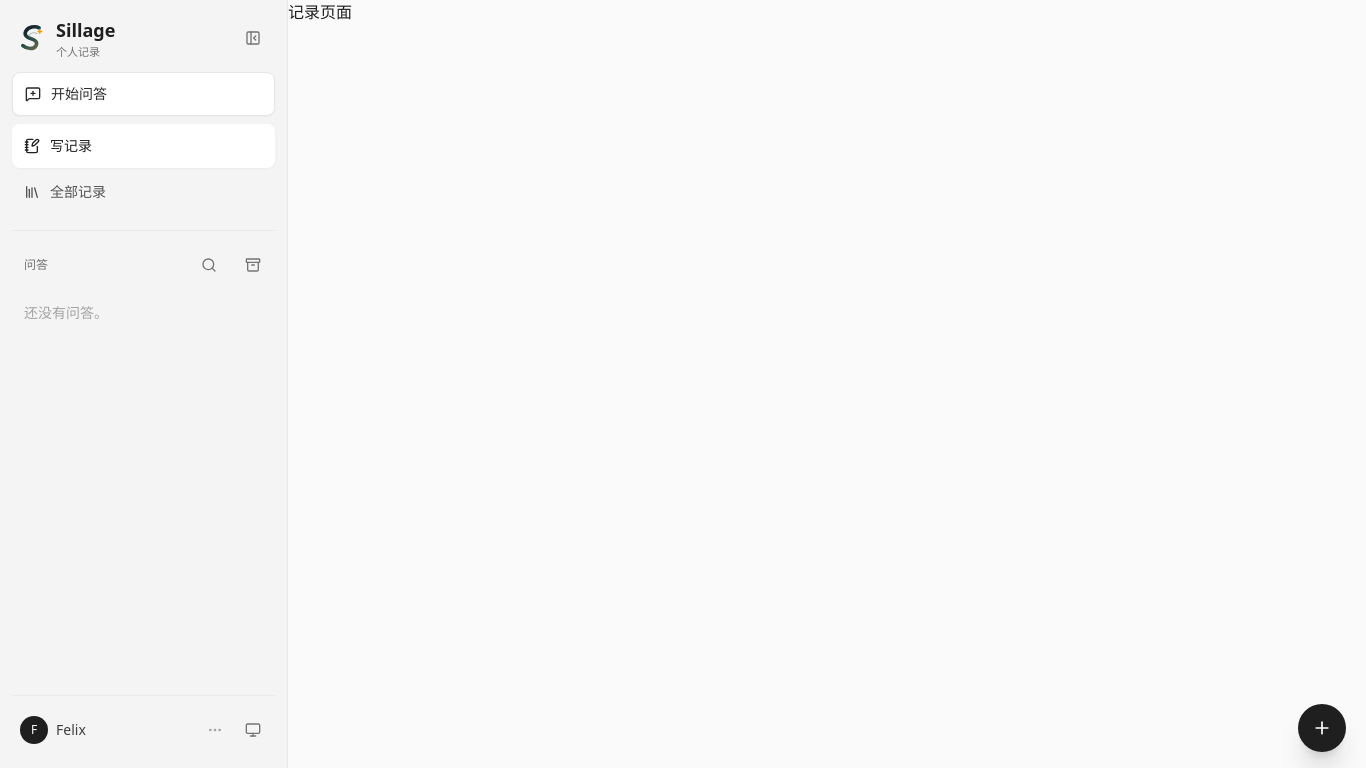
Test case: AppShell mobile navigation › keeps a quick-capture draft mounted across the Ask route
Click the button named "速记". click: (1322, 728)
box: [1298,704,1346,752]
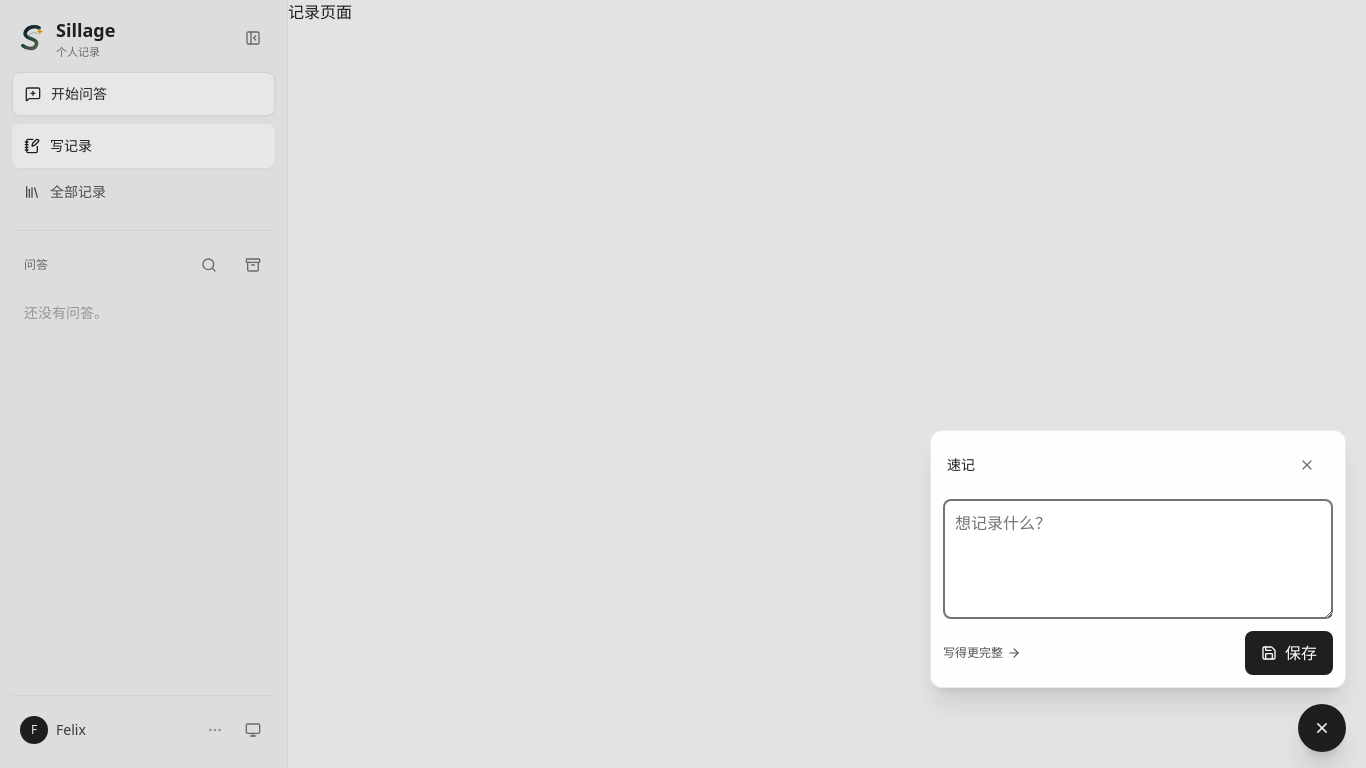
Type "跨页面速记" into the text box named "速记内容". click: (1138, 559)
box: [943,499,1333,619]
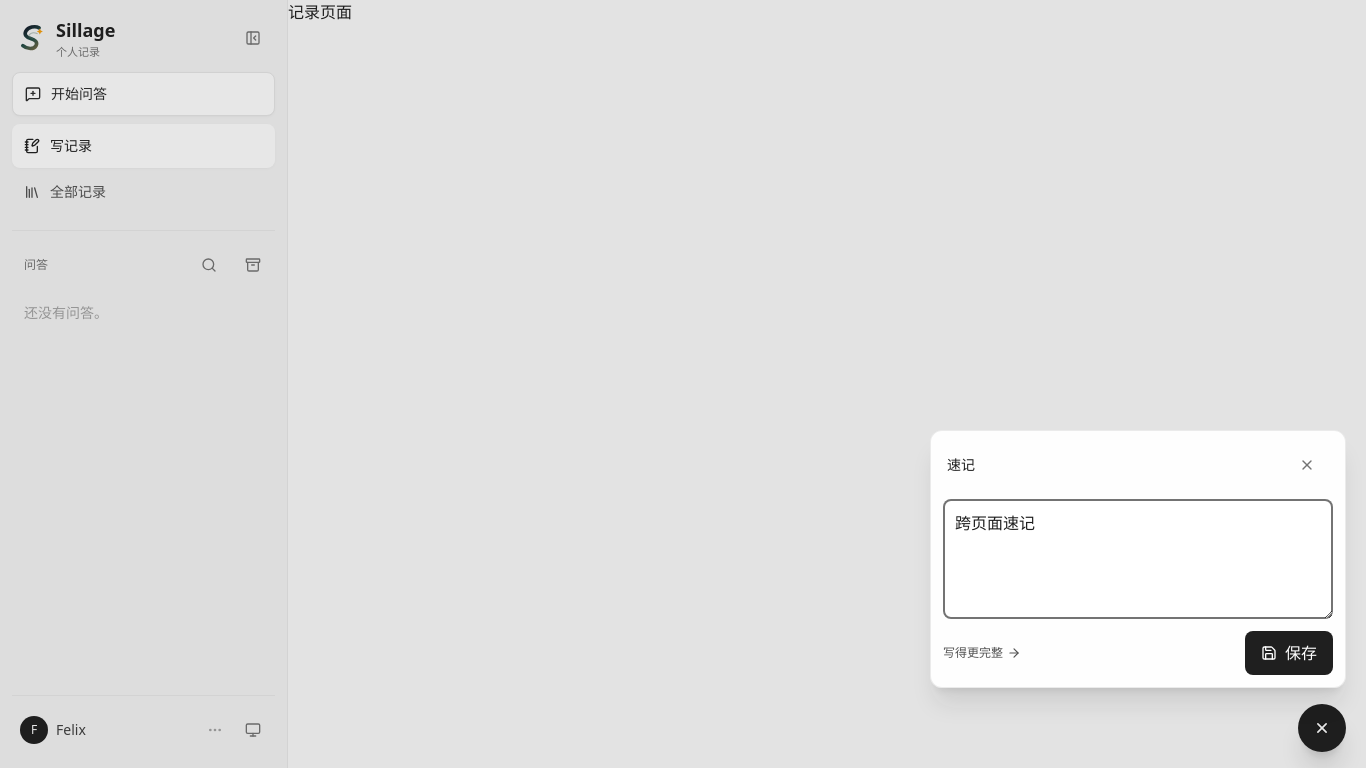
Click the button named "关闭速记" in the row of "速记". click: (1307, 465)
box: [1285,443,1329,487]
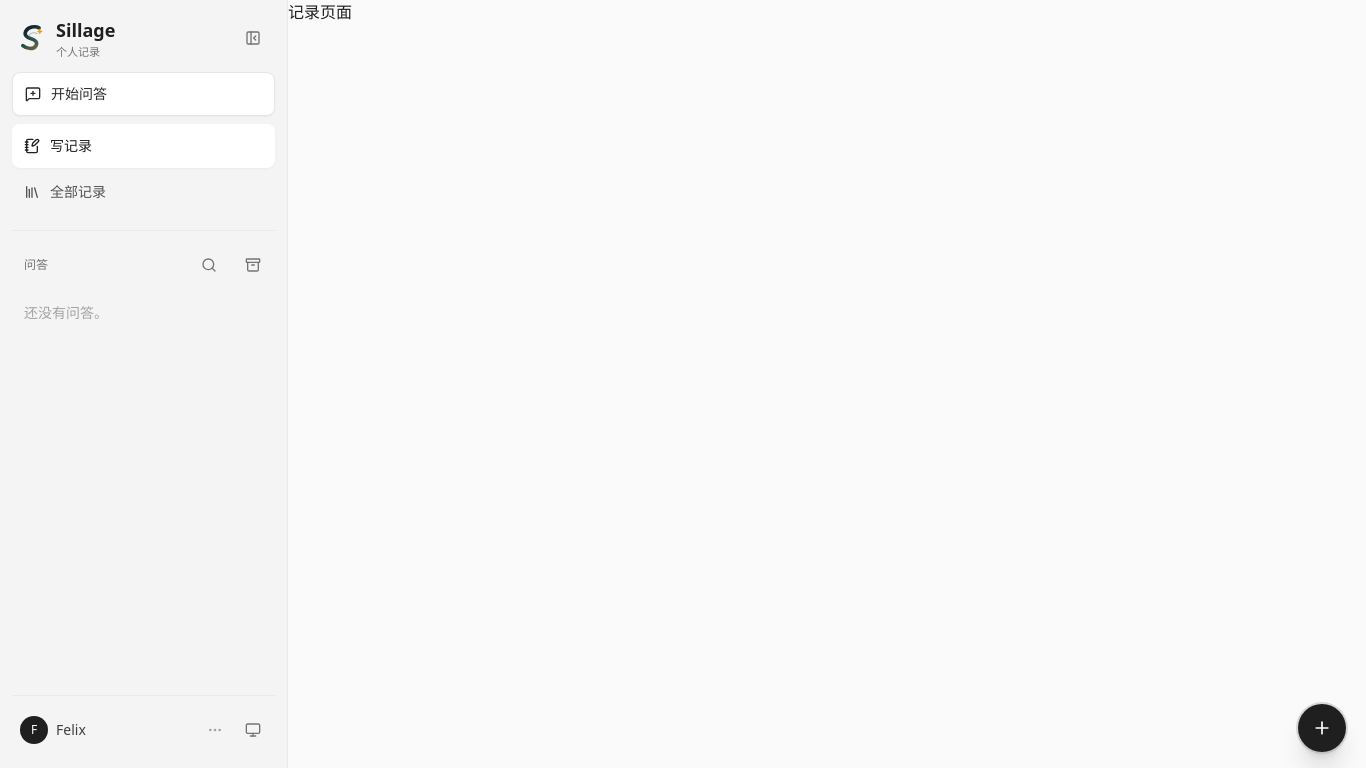
Click the link "开始问答". click: (79, 94)
box: [12,72,275,116]
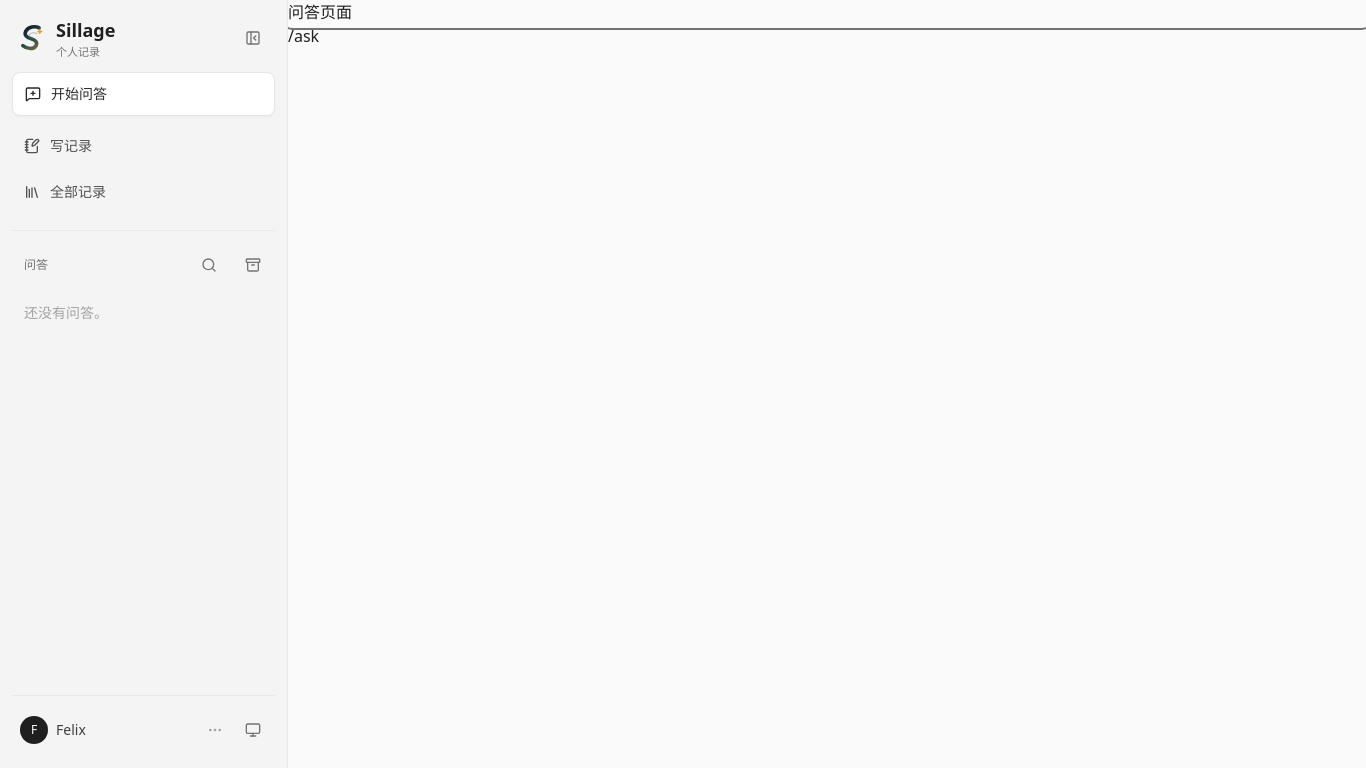
Result: the heading "问答页面" is shown at [288,1,352,23]
Result: the button "速记" is gone
Click the link "写记录". click: (58, 146)
box: [24,136,92,155]
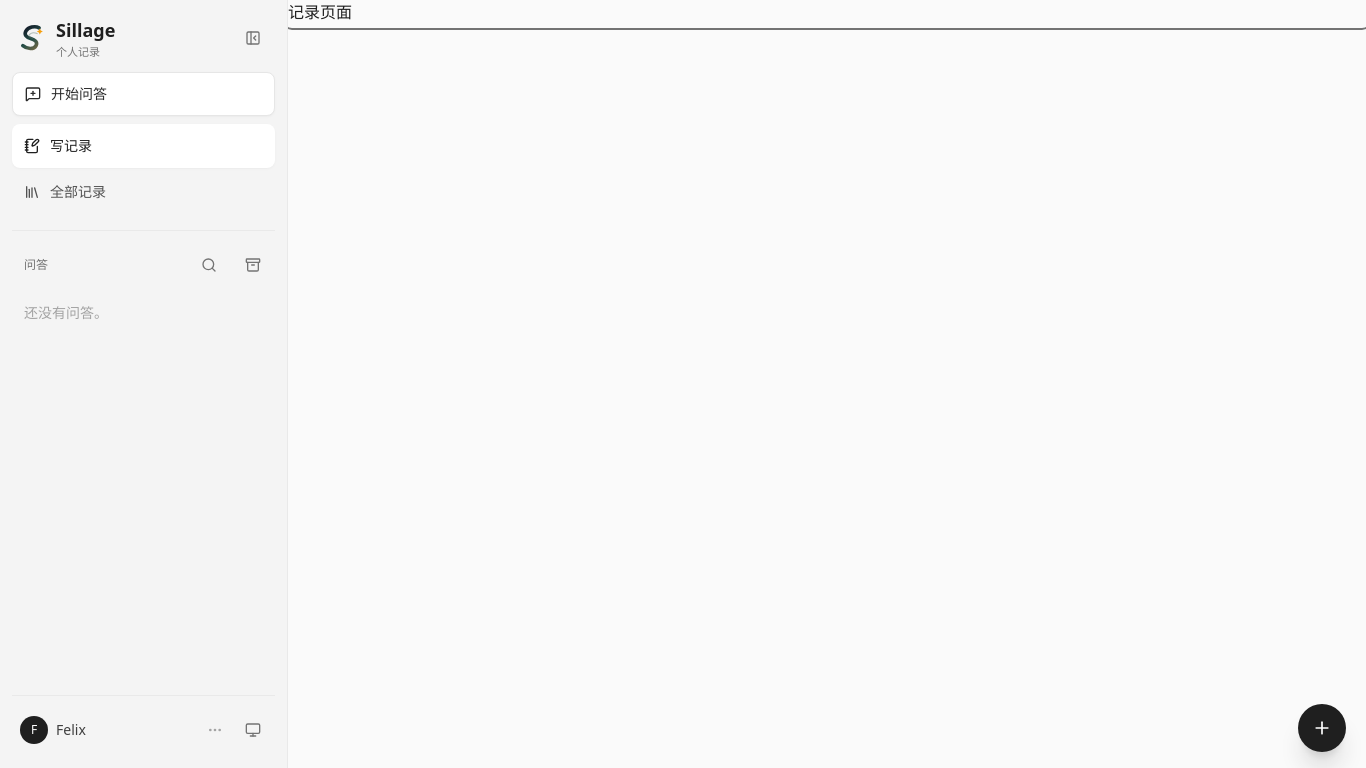
Click the button named "速记". click: (1322, 728)
box: [1298,704,1346,752]
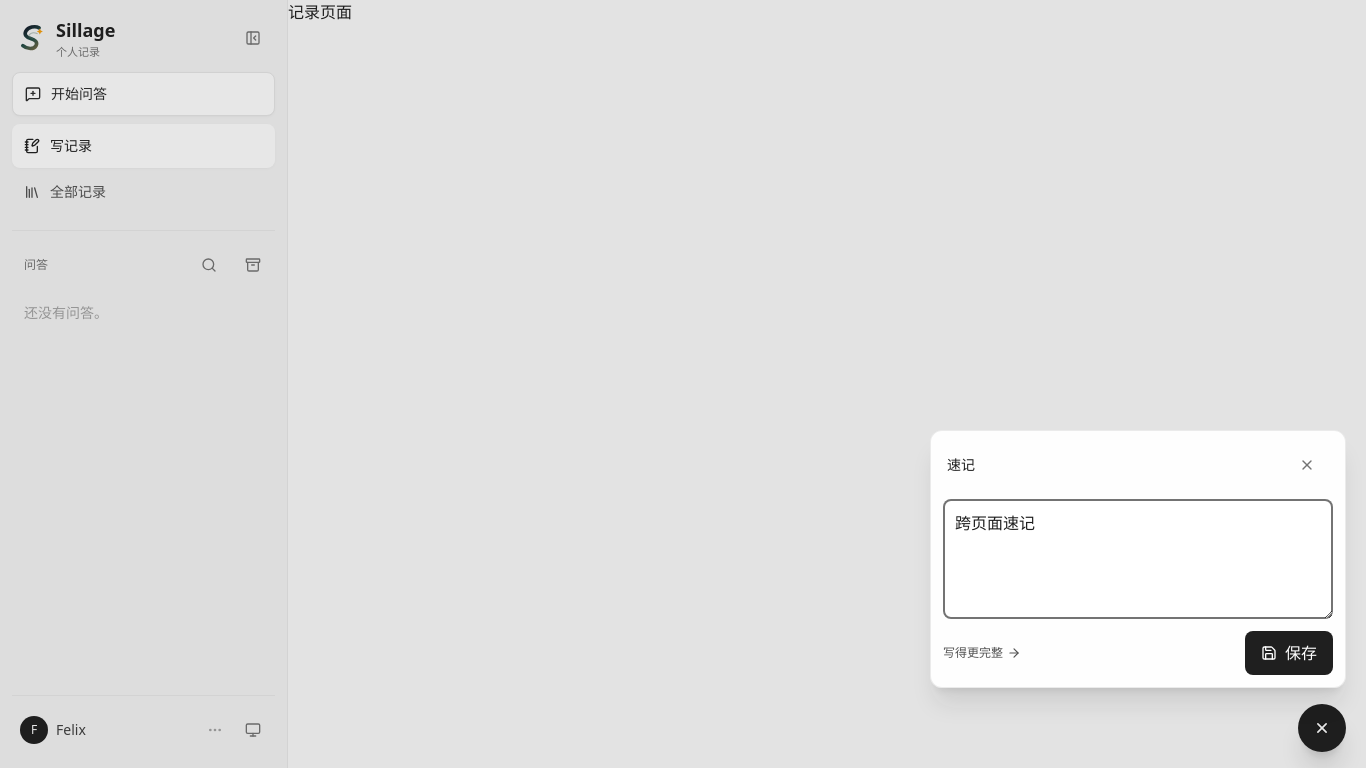
Result: the text box named "速记内容" holds "跨页面速记" at [943,499,1333,619]
